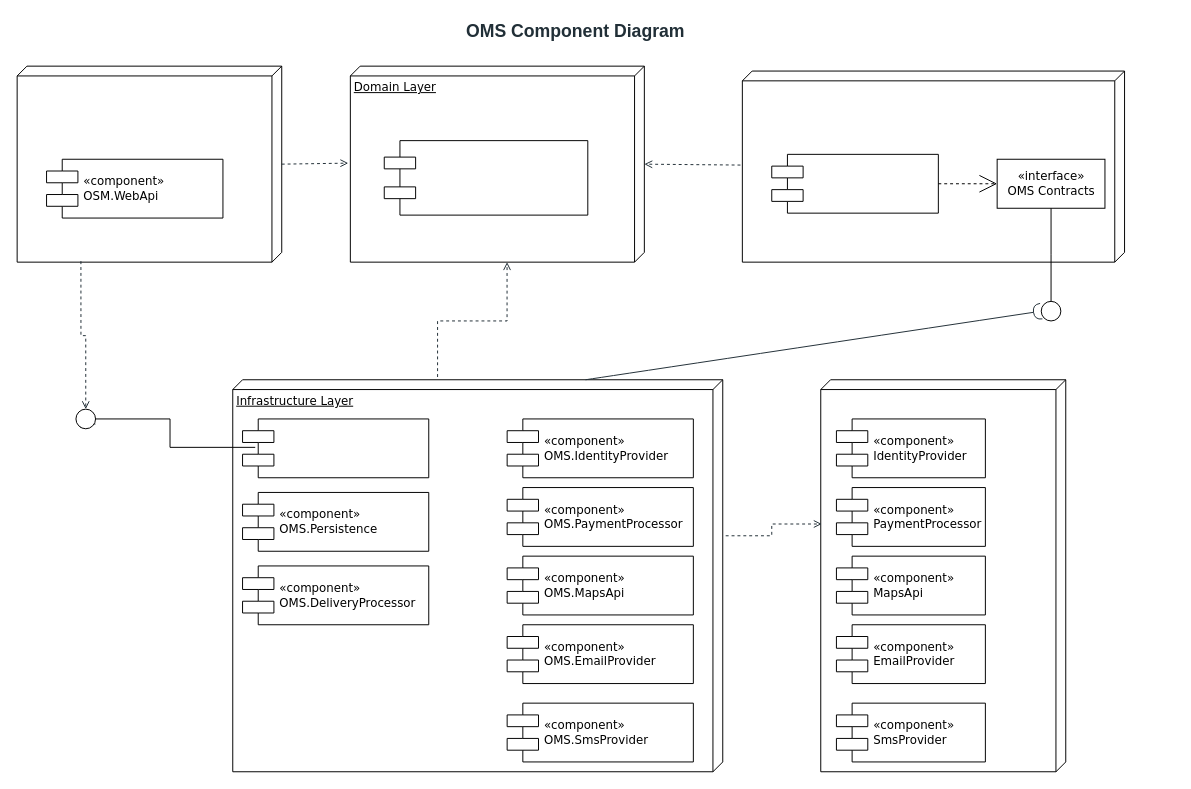
This 1191x789 diagram has some shape labels left out. The shapes that lost their labels are listed below. From the top down, each one's box as (x1, y1, x2, y2) in pixels, then its label:
(16, 65, 282, 262): Api Layer
(383, 140, 588, 215): «component» OMS.Domain
(771, 153, 938, 213): «component» OMS.Application
(741, 70, 1125, 262): Application Layer
(242, 418, 429, 478): «component» OMS.Bootstrapper
(820, 379, 1066, 772): External Services
